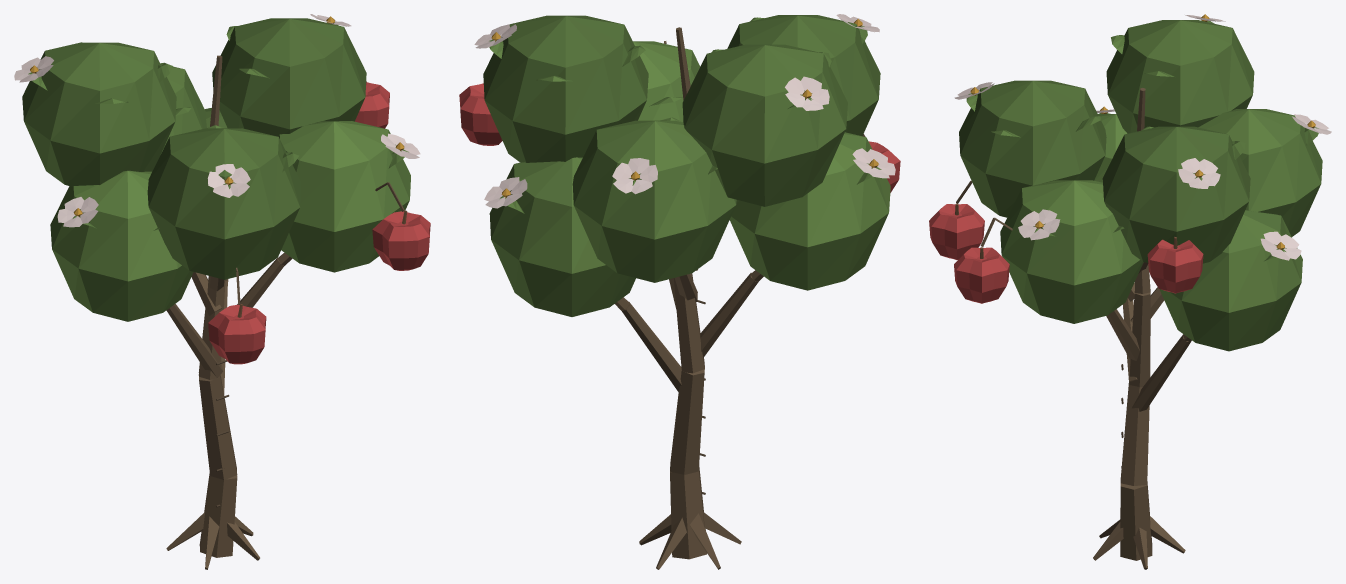
File: apple_tree.glb
3 renders of one model, left to right at view 1: azimuth 30°, elevation 25°; view 2: azimuth 150°, elevation 25°; view 3: azimuth 270°, elevation 25°, orthographic. The views are drawn at different scales.
Parts seen in each view (by area): view 1: leaves, branches, blossom, fruit_2, fruit_1, fruit_3; view 2: leaves, branches, blossom, fruit_3; view 3: leaves, branches, blossom, fruit_2, fruit_1, fruit_3.
Part boxes in pixels (x1=…): leaves: x1=22, y1=18, x2=410, y2=321; branches: x1=166, y1=55, x2=388, y2=569; blossom: x1=14, y1=14, x2=420, y2=227; fruit_2: x1=372, y1=182, x2=430, y2=270; fruit_1: x1=208, y1=272, x2=266, y2=364; fruit_3: x1=355, y1=81, x2=389, y2=128; leaves: x1=483, y1=15, x2=890, y2=316; branches: x1=615, y1=27, x2=763, y2=569; blossom: x1=474, y1=14, x2=895, y2=208; fruit_3: x1=459, y1=83, x2=502, y2=145; leaves: x1=959, y1=20, x2=1322, y2=351; branches: x1=971, y1=88, x2=1191, y2=569; blossom: x1=954, y1=14, x2=1331, y2=260; fruit_2: x1=954, y1=218, x2=1009, y2=303; fruit_1: x1=929, y1=181, x2=984, y2=259; fruit_3: x1=1147, y1=236, x2=1203, y2=293.
Size of the model in its own units: 2.4 by 3.22 by 2.4.
